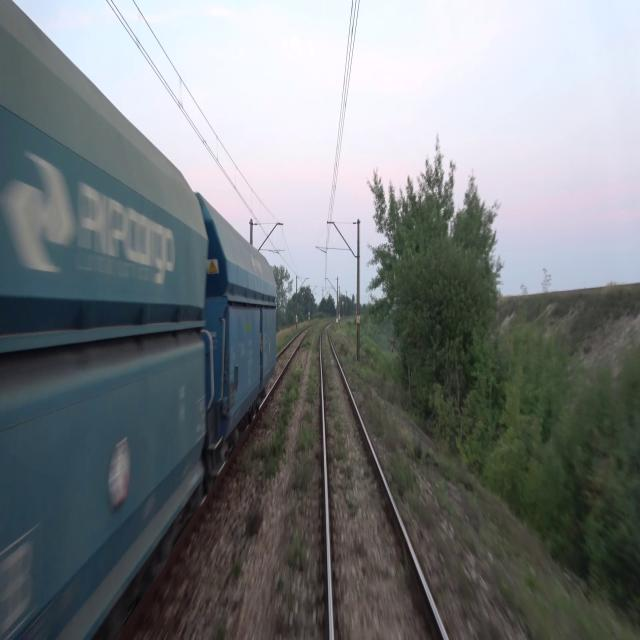rail-track: (322, 327, 444, 639), (269, 331, 305, 386)
